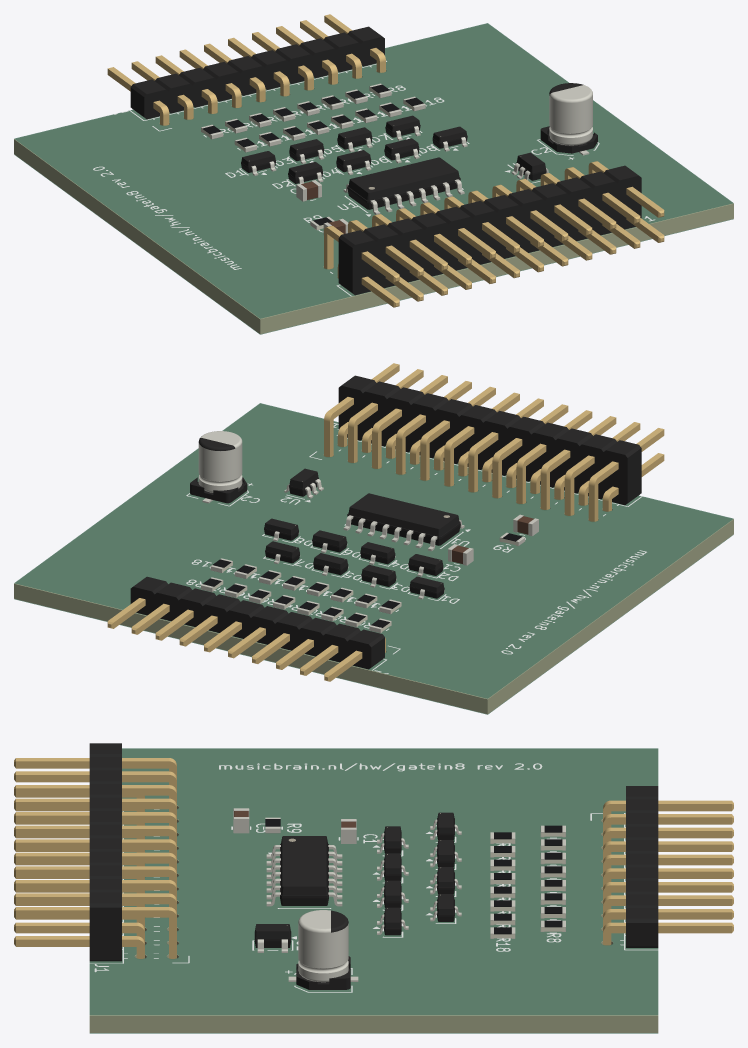
The model's file is musicbrain-gatein8.glb.
3 views of the same model, one above another, from view 1: azimuth 30°, elevation 25°; view 2: azimuth 150°, elevation 25°; view 3: azimuth 270°, elevation 25° (orthographic). The views are drawn at different scales.
Visible parts, largest first — view 1: =>[0:1:1:21], =>[0:1:1:19], =>[0:1:1:3], =>[0:1:1:5], =>[0:1:1:9] (×8), =>[0:1:1:11], =>[0:1:1:17], =>[0:1:1:18], =>[0:1:1:13], =>[0:1:1:20]; view 2: =>[0:1:1:21], =>[0:1:1:19], =>[0:1:1:3], =>[0:1:1:5], =>[0:1:1:9] (×8), =>[0:1:1:11], =>[0:1:1:17], =>[0:1:1:18], =>[0:1:1:13], =>[0:1:1:20]; view 3: =>[0:1:1:21], =>[0:1:1:19], =>[0:1:1:3], =>[0:1:1:5], =>[0:1:1:9] (×8), =>[0:1:1:11], =>[0:1:1:17], =>[0:1:1:18], =>[0:1:1:13], =>[0:1:1:20].
Boxes of the visible parts, x1,y1,x2,y2 form: =>[0:1:1:21]: (14, 24, 733, 334); =>[0:1:1:19]: (14, 23, 733, 318); =>[0:1:1:3]: (324, 161, 664, 307); =>[0:1:1:5]: (107, 14, 385, 125); =>[0:1:1:9] (×8): (241, 115, 467, 183); =>[0:1:1:11]: (343, 157, 464, 214); =>[0:1:1:17]: (540, 83, 597, 155); =>[0:1:1:18]: (93, 60, 655, 296); =>[0:1:1:13]: (511, 152, 548, 180); =>[0:1:1:20]: (14, 154, 733, 334); =>[0:1:1:21]: (14, 404, 733, 714); =>[0:1:1:19]: (14, 403, 733, 698); =>[0:1:1:3]: (324, 363, 664, 521); =>[0:1:1:5]: (107, 576, 385, 681); =>[0:1:1:9] (×8): (264, 518, 444, 599); =>[0:1:1:11]: (343, 493, 464, 551); =>[0:1:1:17]: (190, 431, 247, 503); =>[0:1:1:18]: (186, 423, 646, 673); =>[0:1:1:13]: (284, 468, 323, 498); =>[0:1:1:20]: (14, 534, 733, 714); =>[0:1:1:21]: (89, 749, 658, 1032); =>[0:1:1:19]: (89, 748, 658, 1015); =>[0:1:1:3]: (14, 743, 176, 961); =>[0:1:1:5]: (603, 786, 733, 947); =>[0:1:1:9] (×8): (377, 812, 461, 935); =>[0:1:1:11]: (266, 836, 342, 906); =>[0:1:1:17]: (288, 910, 358, 989); =>[0:1:1:18]: (90, 763, 657, 992); =>[0:1:1:13]: (254, 924, 291, 952); =>[0:1:1:20]: (89, 1033, 658, 1033).
Size of the model in its own units: 0.05 by 0.0083 by 0.057.
